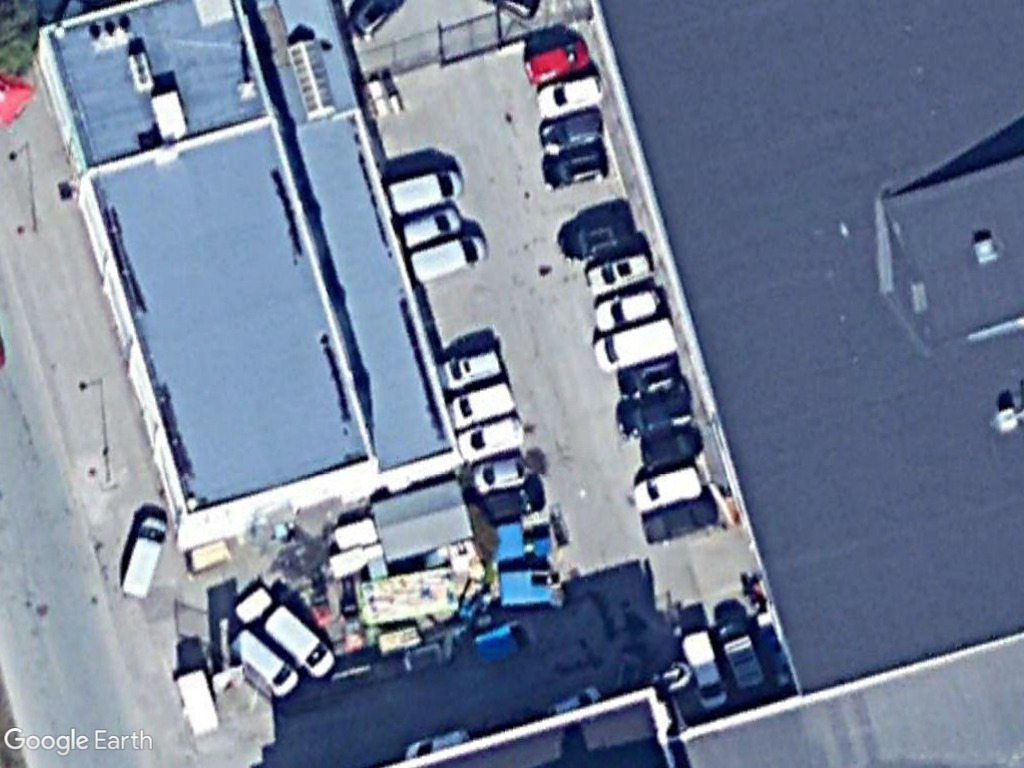car: (517, 34, 595, 93), (534, 141, 613, 196), (579, 245, 658, 299), (588, 283, 671, 333), (532, 71, 606, 121), (433, 346, 507, 394), (467, 451, 534, 495)
van: (265, 601, 339, 683), (586, 316, 681, 378), (226, 626, 302, 700), (675, 621, 735, 714), (114, 512, 170, 601), (626, 461, 709, 518), (444, 375, 522, 434), (388, 199, 473, 253), (384, 164, 470, 217), (405, 230, 493, 280), (453, 411, 530, 464)
